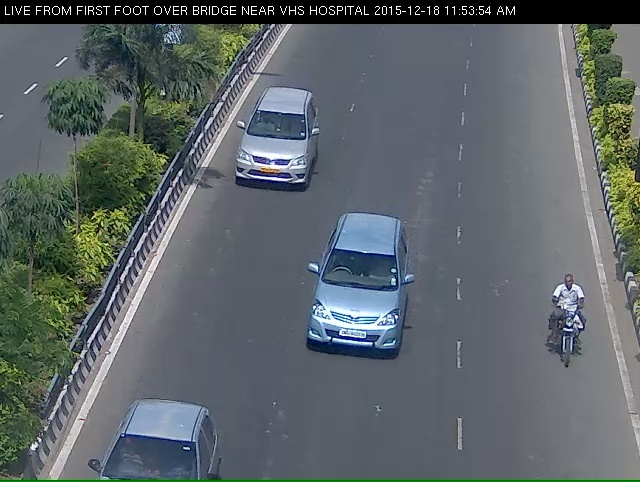Car: (280, 227, 411, 396), (226, 96, 312, 207)
Person: (544, 288, 603, 402)
